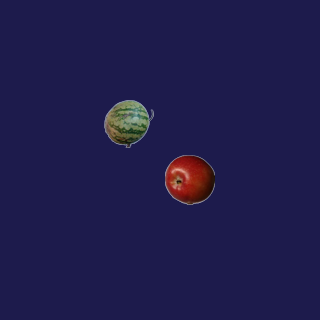Apple Braeburn: (164, 154, 214, 204)
Watermelon: (103, 98, 153, 148)
